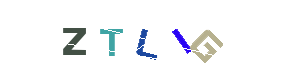G: (160, 0, 240, 80)
I: (120, 0, 200, 80)
L: (102, 0, 182, 80)
T: (71, 0, 151, 80)
Z: (34, 0, 114, 80)
